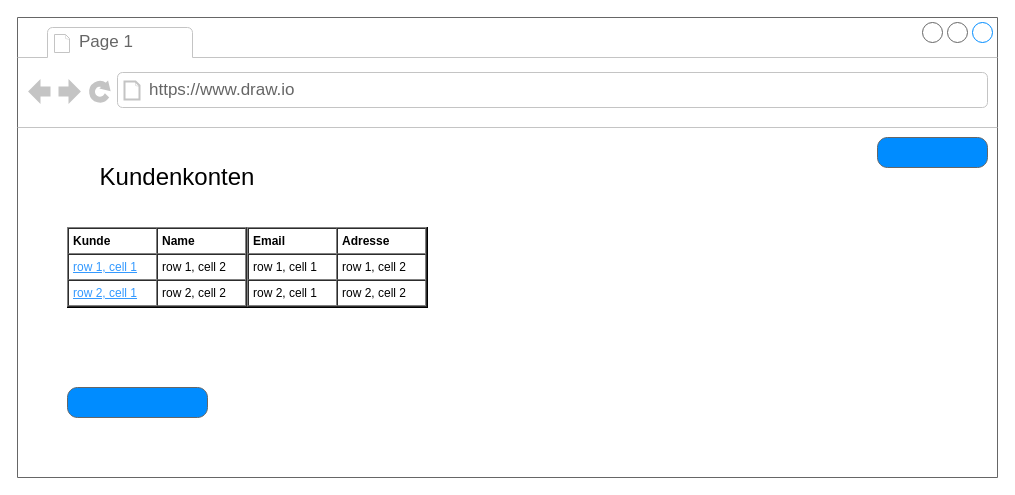
Some shapes in this 1015 by 495 pixel diagram are drawn without their labels. The centre of each missing label's shape, as x and y in pixels:
Konto sperren: (137,402)
Logout: (932,152)
